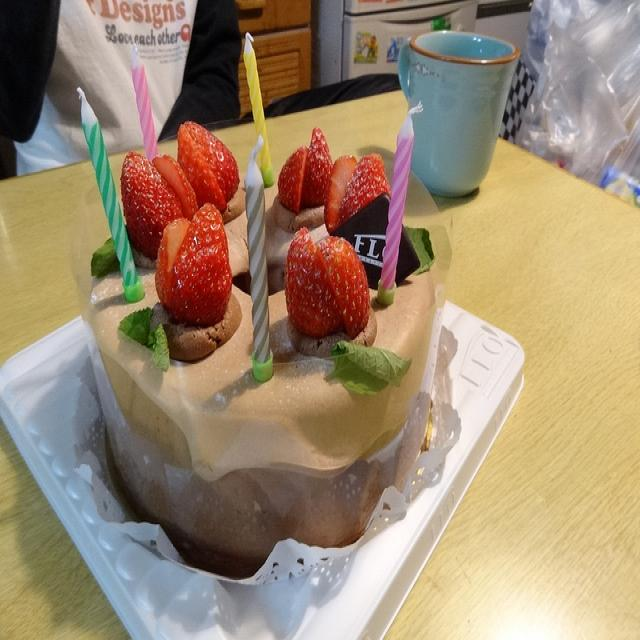chair: (264, 69, 399, 120)
dining table: (0, 28, 640, 630)
